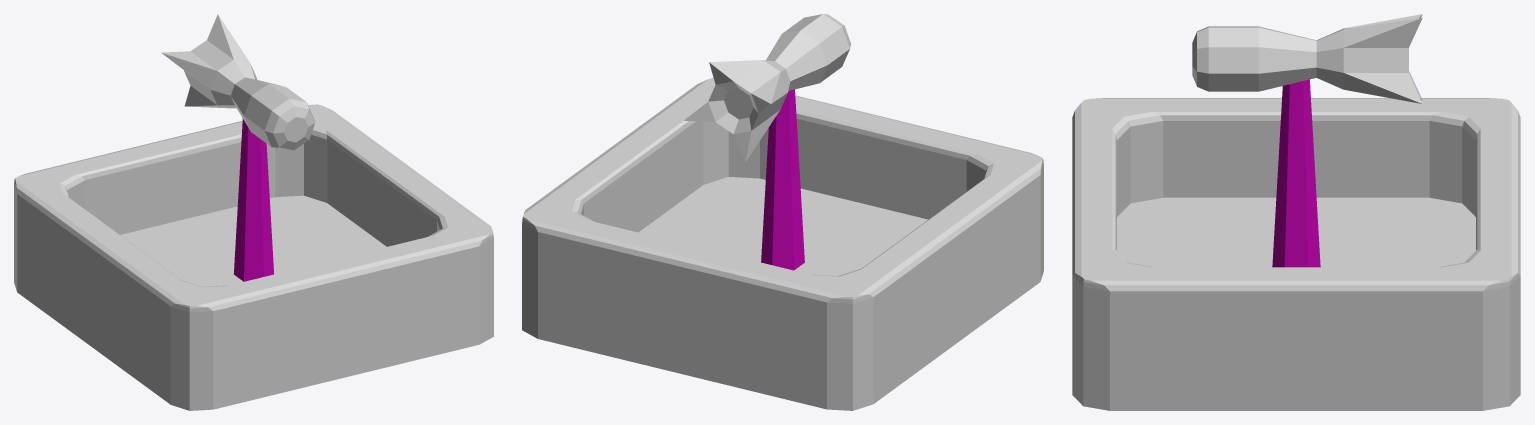
Rendered from DartLoader.fbx.
3 views of the same model, side by side, from view 1: azimuth 30°, elevation 25°; view 2: azimuth 150°, elevation 25°; view 3: azimuth 270°, elevation 25° (orthographic). The views are drawn at different scales.
Parts seen in each view (by area): view 1: Base.001, Probe.001; view 2: Base.001, Probe.001; view 3: Base.001, Probe.001.
Part boxes in pixels (left/top/right/bottom): Base.001: left=14, top=104, right=493, bottom=410; Probe.001: left=161, top=14, right=315, bottom=281; Base.001: left=522, top=77, right=1043, bottom=410; Probe.001: left=684, top=14, right=851, bottom=270; Base.001: left=1072, top=98, right=1520, bottom=410; Probe.001: left=1192, top=14, right=1422, bottom=267.
Size of the model in its own units: 282 by 214 by 282.
